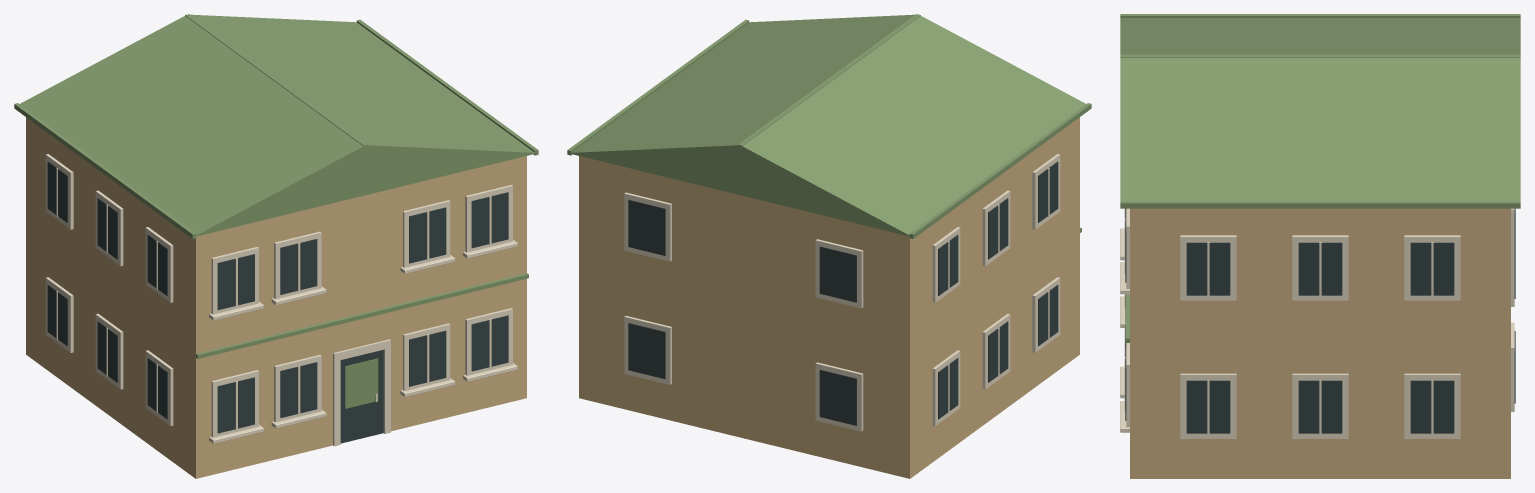
File: house-base.glb
3 renders of one model, left to right at view 1: azimuth 30°, elevation 25°; view 2: azimuth 150°, elevation 25°; view 3: azimuth 270°, elevation 25°, orthographic. The views are drawn at different scales.
Visible parts, largest first — view 1: wall-volume, batch-house-root-green, batch-house-root-dark, batch-house-root-cream, door-panel; view 2: wall-volume, batch-house-root-green, batch-house-root-dark, batch-house-root-cream; view 3: wall-volume, batch-house-root-green, batch-house-root-dark, batch-house-root-cream.
Part boxes in pixels (x1,y1,x2,y2): wall-volume: (26,117,526,478); batch-house-root-green: (14,14,538,408); batch-house-root-dark: (47,161,508,433); batch-house-root-cream: (45,154,517,446); door-panel: (340,349,383,443); wall-volume: (579,117,1079,478); batch-house-root-green: (567,14,1091,238); batch-house-root-dark: (628,161,1058,425); batch-house-root-cream: (624,154,1060,431); wall-volume: (1130,208,1510,478); batch-house-root-green: (1120,14,1520,342); batch-house-root-dark: (1125,208,1515,433); batch-house-root-cream: (1120,208,1514,438).
Size of the model in its own units: 9.4 by 7.7 by 8.4.
